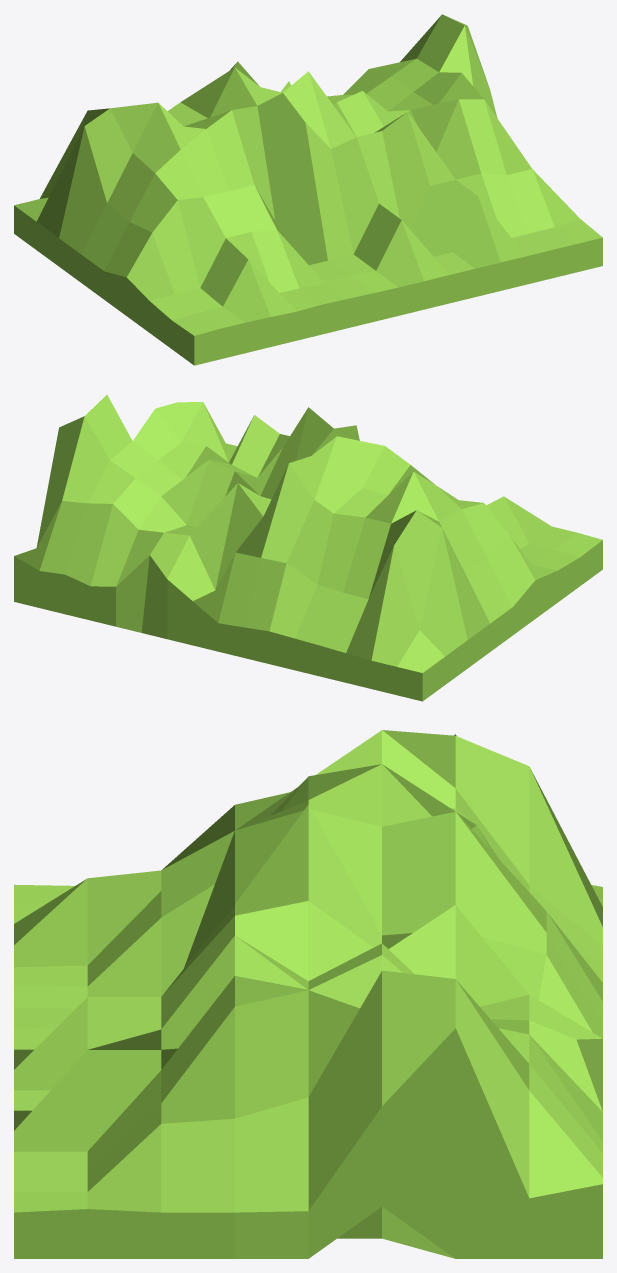
The picture shows the model from 3 angles, top to bottom: view 1: azimuth 30°, elevation 25°; view 2: azimuth 150°, elevation 25°; view 3: azimuth 270°, elevation 25°; orthographic projection. The views are drawn at different scales.
Parts seen in each view (by area): view 1: 1/2; view 2: 1/2; view 3: 1/2.
Boxes of the visible parts, x1,y1,x2,y2 form: 1/2: (14,14,602,365); 1/2: (14,394,602,701); 1/2: (14,730,602,1258).
Size of the model in its own units: 5338 by 2230 by 4080.
